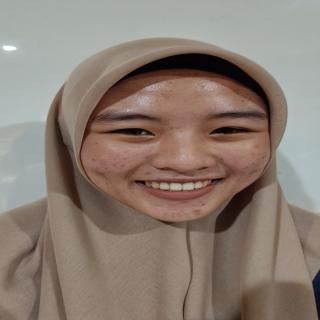Senang: (83, 62, 271, 226)
